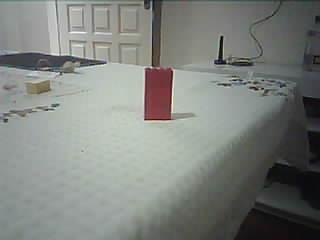lego: (142, 67, 174, 120), (24, 78, 52, 94)
